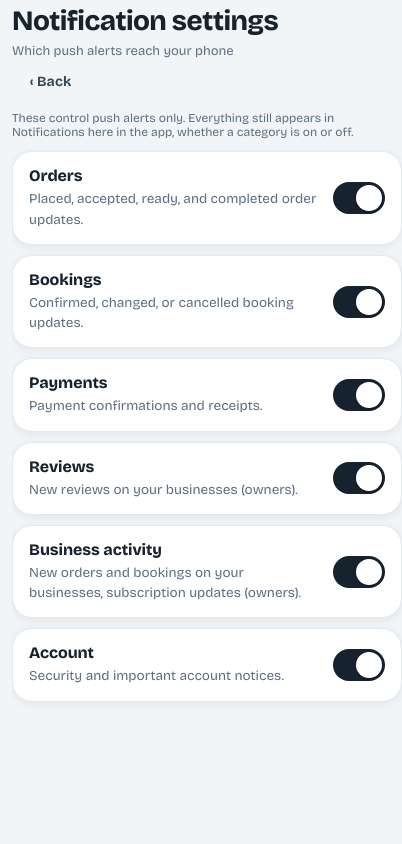
NotificationPreferencesScreen › reverts the toggle and shows an error when saving fails
Click the switch named "orders push notifications": click(359, 198) [333, 182, 385, 214]
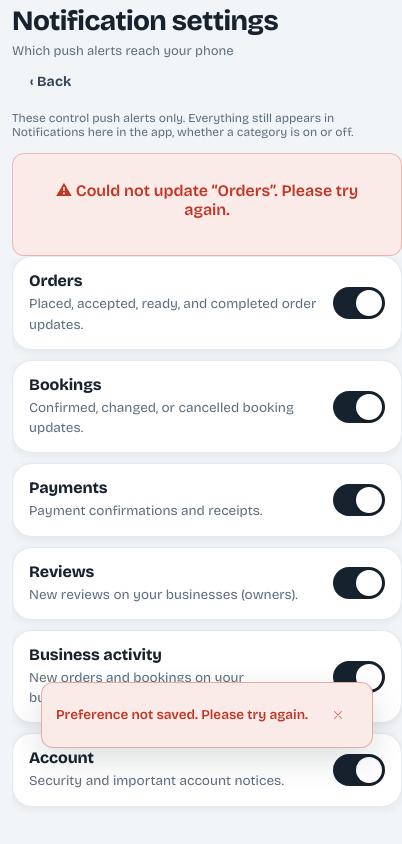
Result: the text "⚠ Could not update “Orders”. Please try again." is shown at [33, 180, 381, 219]
